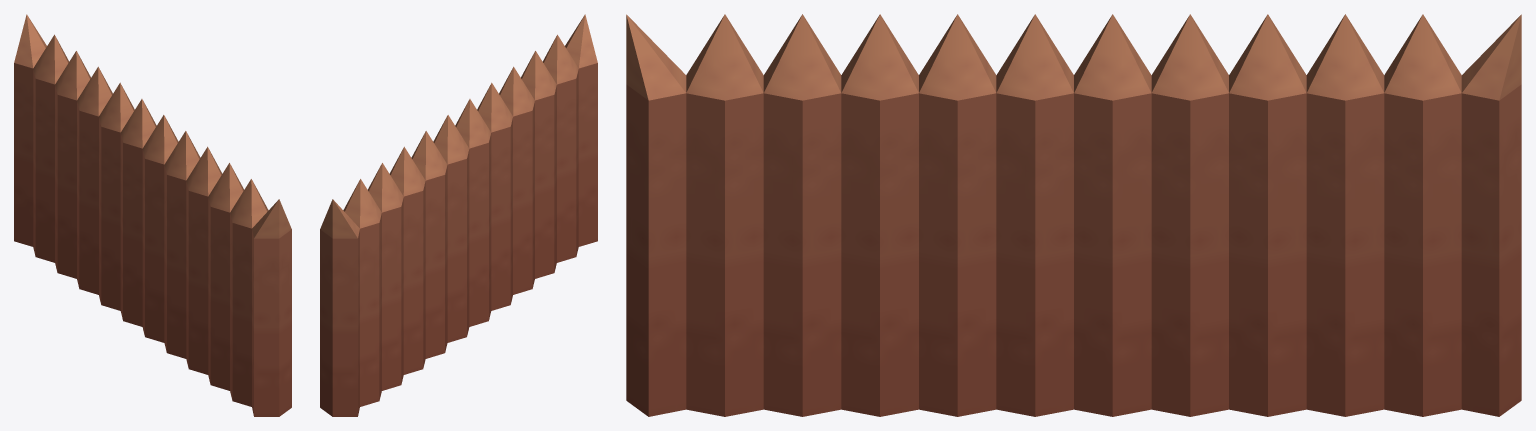
Rendered from fence_wood_straight.glb.
3 renders of one model, left to right at view 1: azimuth 30°, elevation 25°; view 2: azimuth 150°, elevation 25°; view 3: azimuth 270°, elevation 25°, orthographic. The views are drawn at different scales.
Parts seen in each view (by area): view 1: fence_wood_straight; view 2: fence_wood_straight; view 3: fence_wood_straight.
Part boxes in pixels (x1=…): fence_wood_straight: x1=14, y1=14, x2=291, y2=416; fence_wood_straight: x1=320, y1=14, x2=597, y2=416; fence_wood_straight: x1=626, y1=14, x2=1521, y2=416.
Size of the model in its own units: 0.0999 by 0.5501 by 1.15.
1 material, 1 textured.
